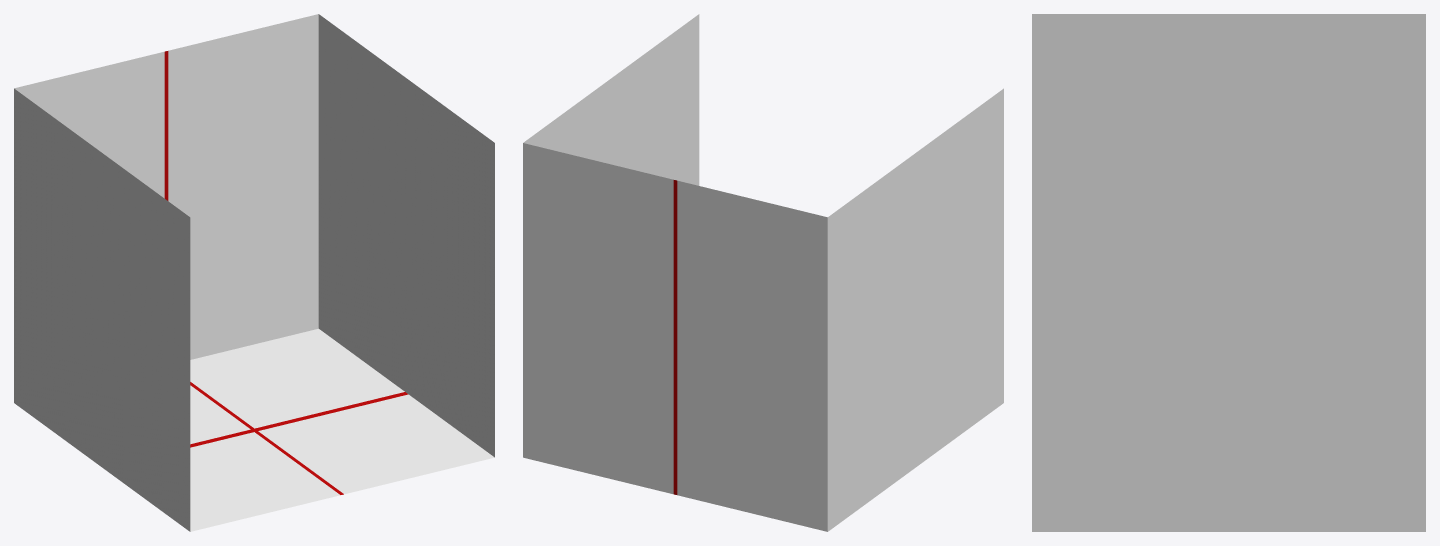
File: Room.fbx
3 views of the same model, side by side, from view 1: azimuth 30°, elevation 25°; view 2: azimuth 150°, elevation 25°; view 3: azimuth 270°, elevation 25° (orthographic). The views are drawn at different scales.
Visible parts, largest first — view 1: Box001; view 2: Box001; view 3: Box001.
Part boxes in pixels (<box>): Box001: <box>14,14,494,531</box>; Box001: <box>523,14,1003,531</box>; Box001: <box>1032,14,1425,531</box>.
Bounding box in the file's own units: 1.37 × 1.36 × 1.38.
